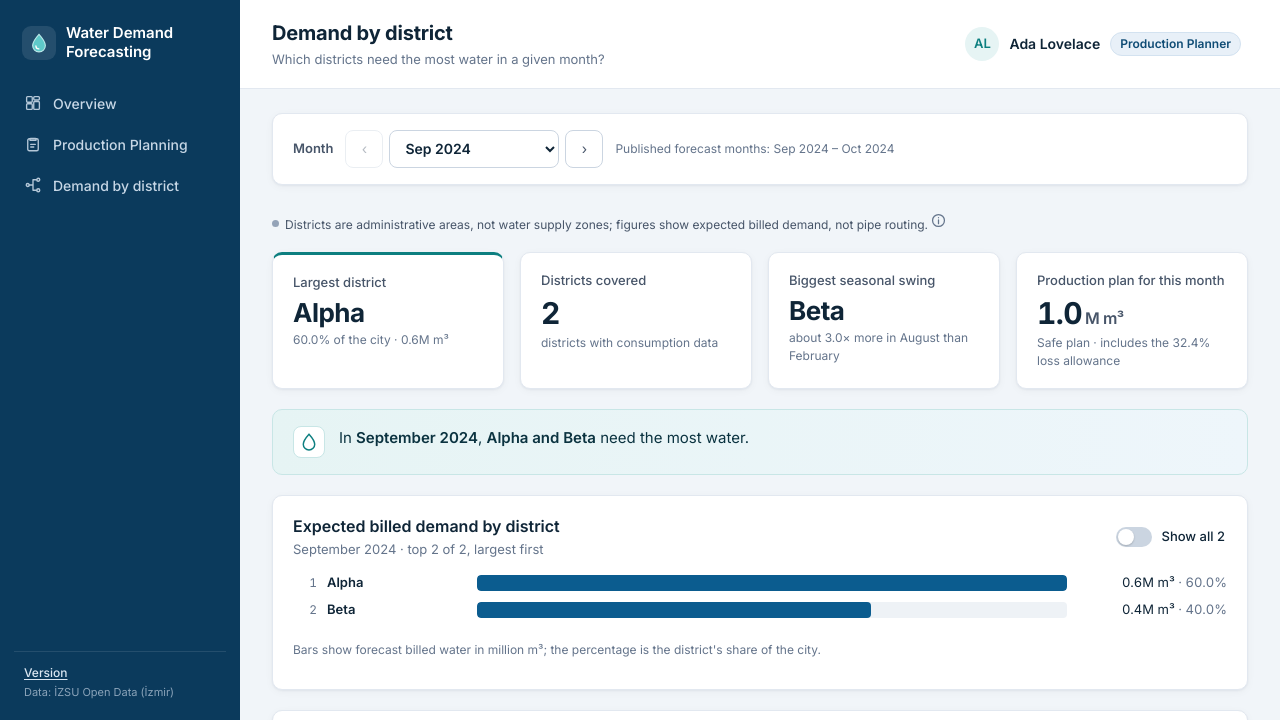
Test case: changing the month updates the KPI cards and shows the no-plan note
The width and height of the screenshot is (1280, 720).
Expected: the text "Districts covered" is shown, [541,272,646,288]
Select "Oct 2024" in the dropdown labelled "Month" at (474, 148), box [389,130,559,168]
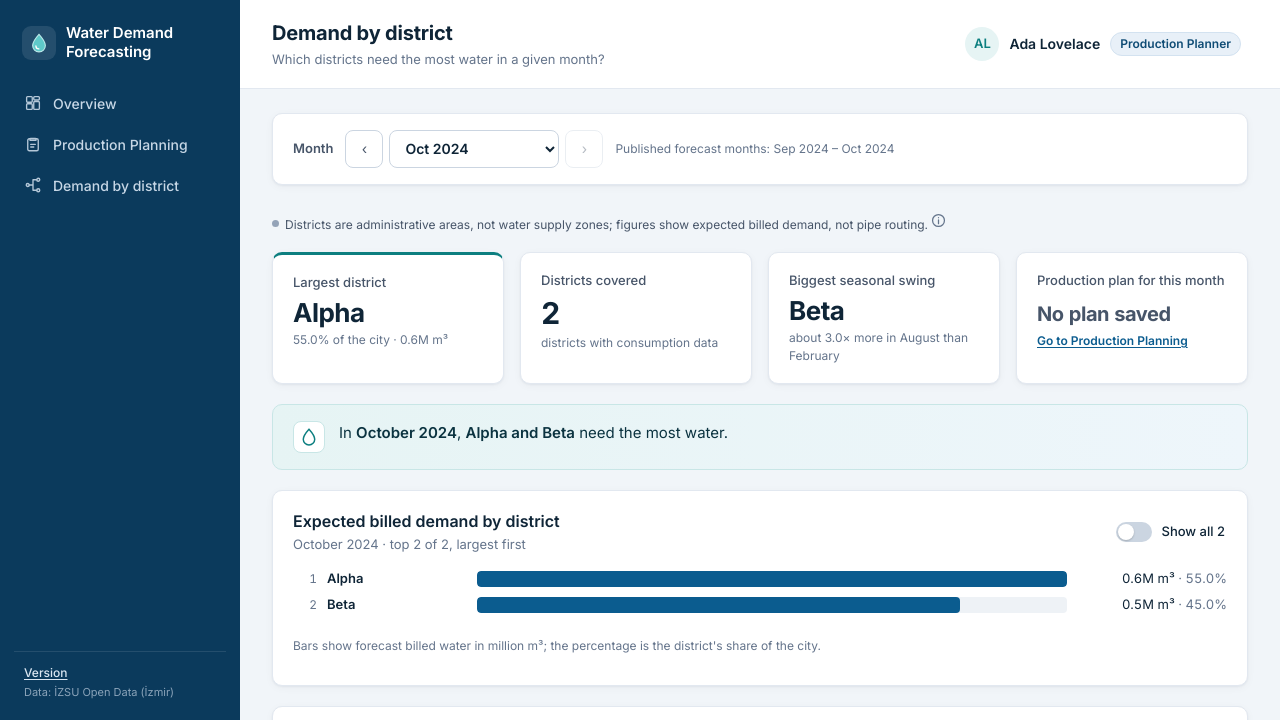
Expected: the text "No plan saved" is shown, [1037,302,1171,326]
